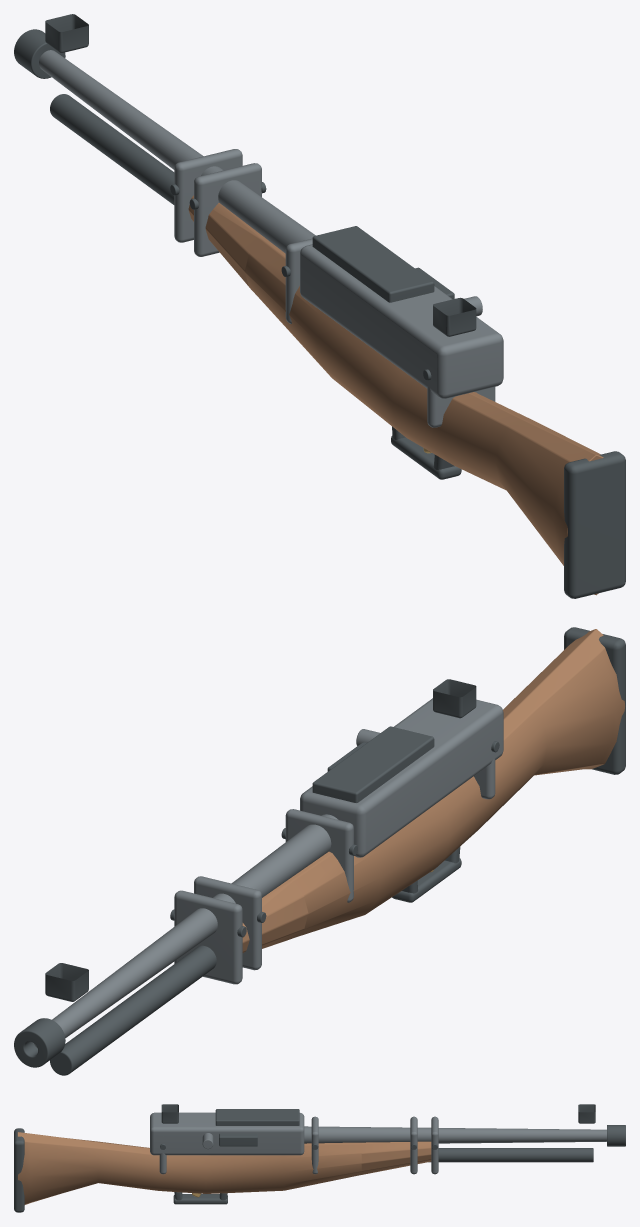
File: m1_scope_base.glb
3 renders of one model, top to bottom at view 1: azimuth 30°, elevation 25°; view 2: azimuth 150°, elevation 25°; view 3: azimuth 270°, elevation 25°, orthographic. The views are drawn at different scales.
Visible parts, largest first — view 1: Steel, Wood, Dark; view 2: Steel, Wood, Dark; view 3: Wood, Steel, Dark.
Boxes of the visible parts, x1=… form: Steel: x1=39, y1=50, x2=503, y2=427; Wood: x1=188, y1=195, x2=603, y2=595; Dark: x1=14, y1=14, x2=625, y2=598; Steel: x1=34, y1=698, x2=503, y2=1047; Wood: x1=242, y1=629, x2=625, y2=952; Dark: x1=14, y1=627, x2=625, y2=1075; Wood: x1=17, y1=1132, x2=431, y2=1204; Steel: x1=150, y1=1112, x2=606, y2=1174; Dark: x1=14, y1=1104, x2=625, y2=1212.
Size of the model in its own units: 0.0981 by 0.1829 by 1.02.
